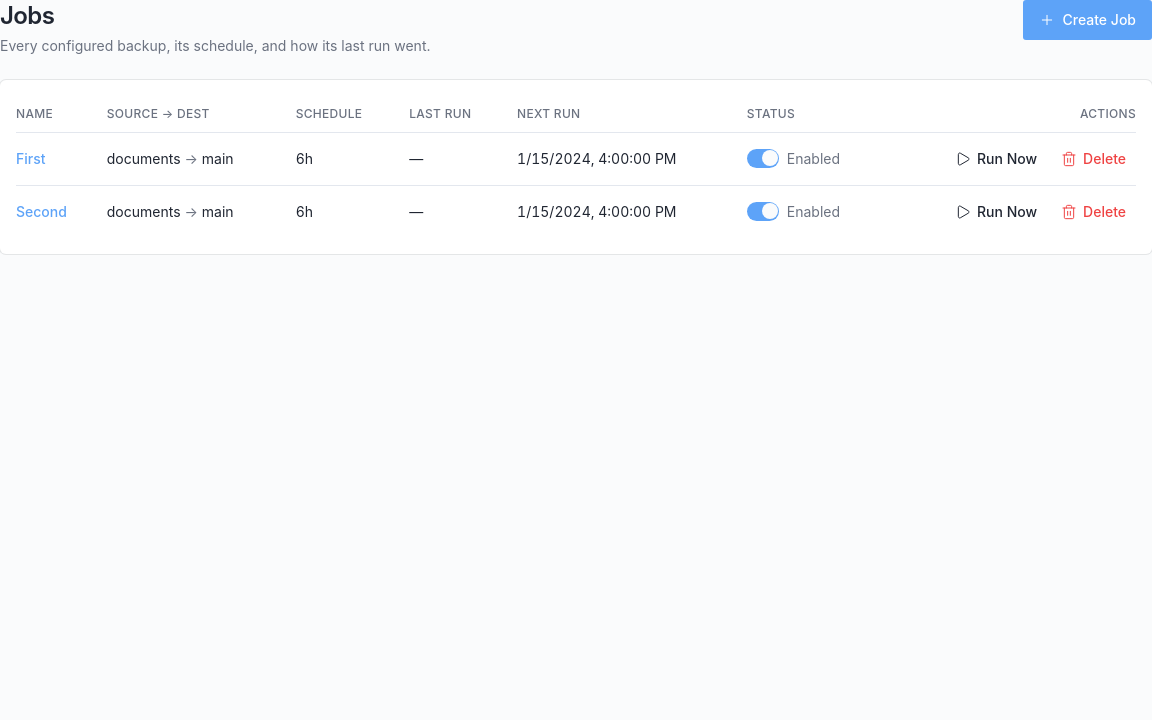
Jobs › delete confirmation dialog › resets the delete-repository checkbox between jobs
Expected: the link "First" is shown, x1=16 y1=150 x2=46 y2=166
Click the button "Delete" in the row of "First" at (1094,158), box x1=1051 y1=142 x2=1136 y2=174
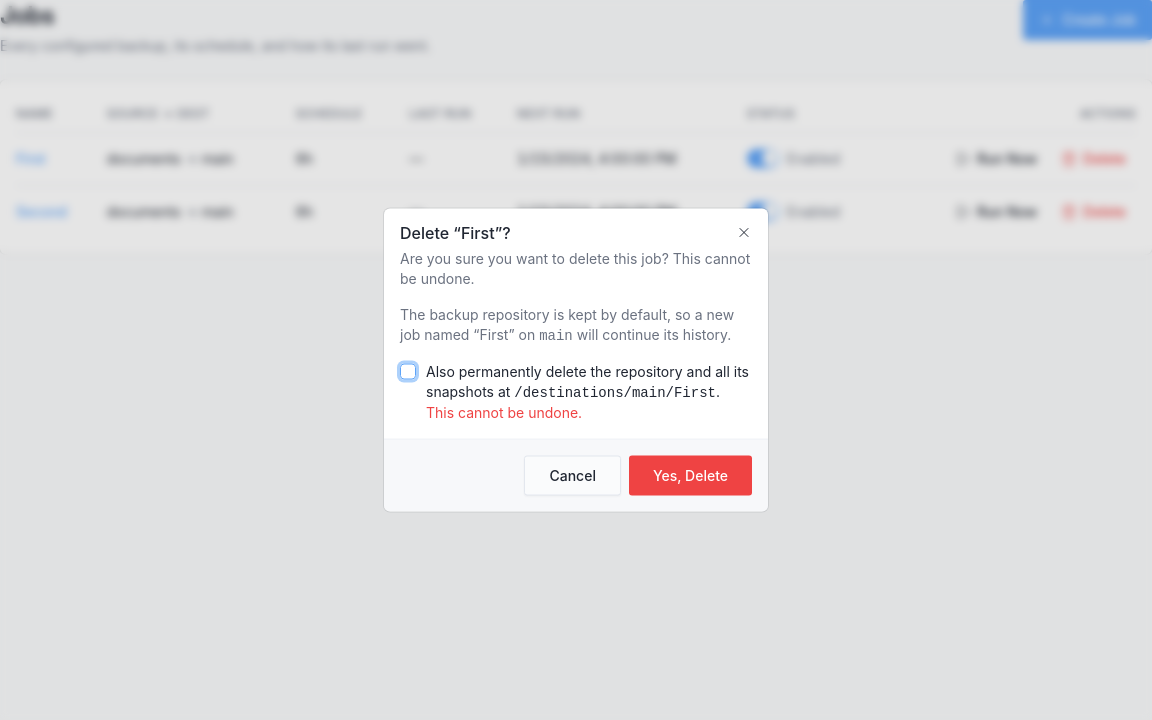
Click the checkbox named "also permanently delete" at (408,372), box x1=400 y1=364 x2=416 y2=380
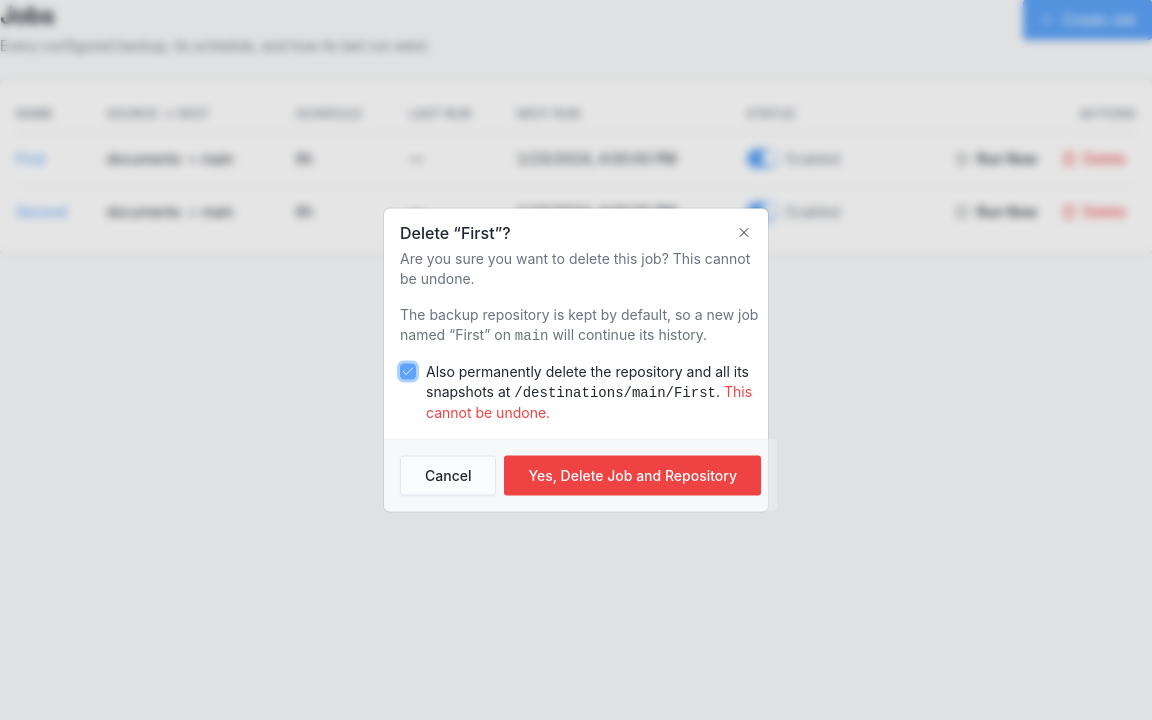
Click the button "Cancel" at (448,476), box x1=400 y1=456 x2=496 y2=496
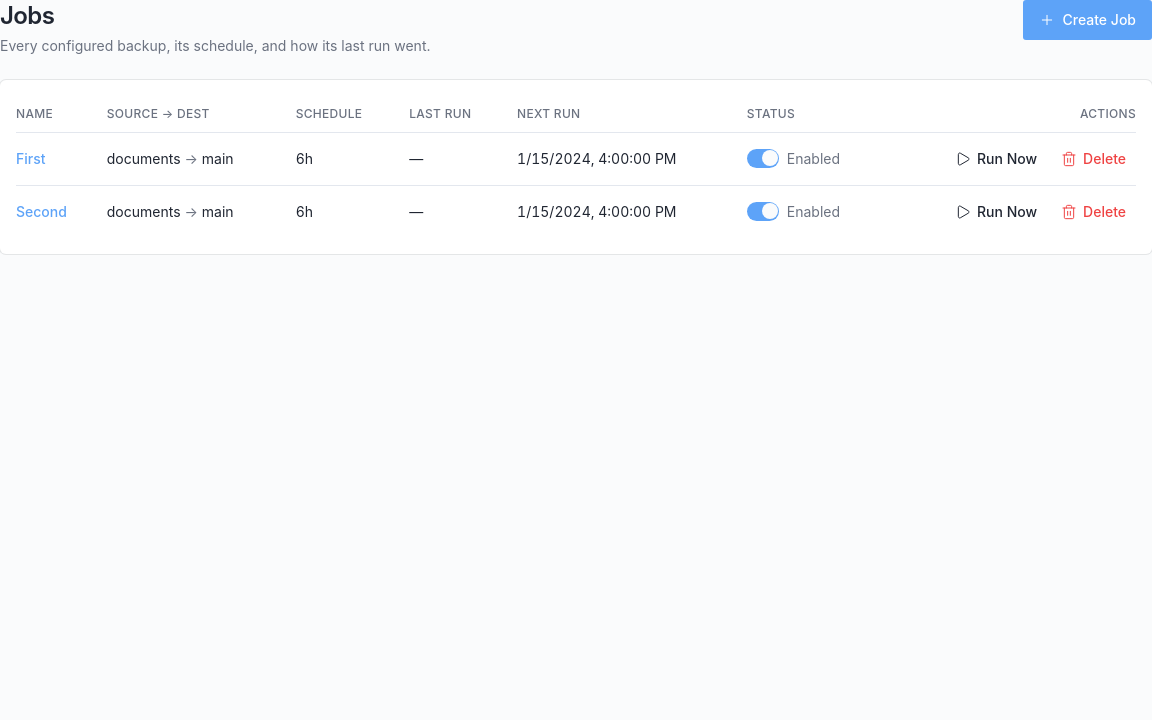
Click the button "Delete" in the row of "Second" at (1094,212), box x1=1051 y1=196 x2=1136 y2=228
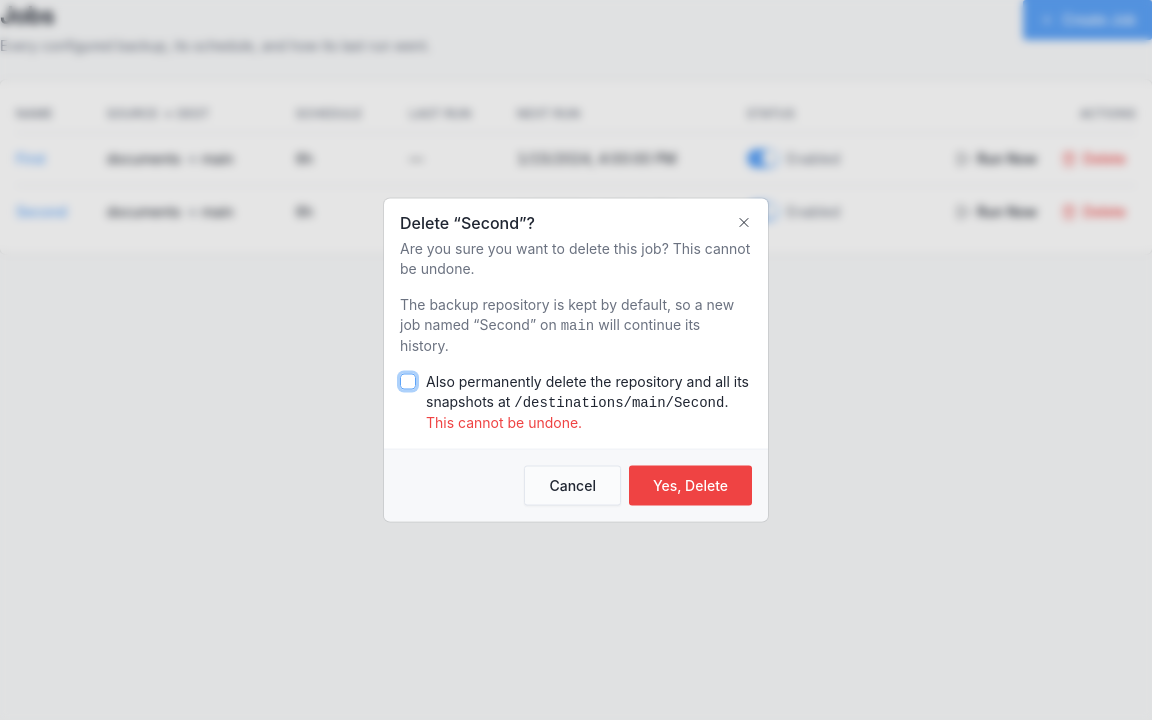
Now the checkbox named "also permanently delete" is not checked, box x1=400 y1=374 x2=416 y2=390
